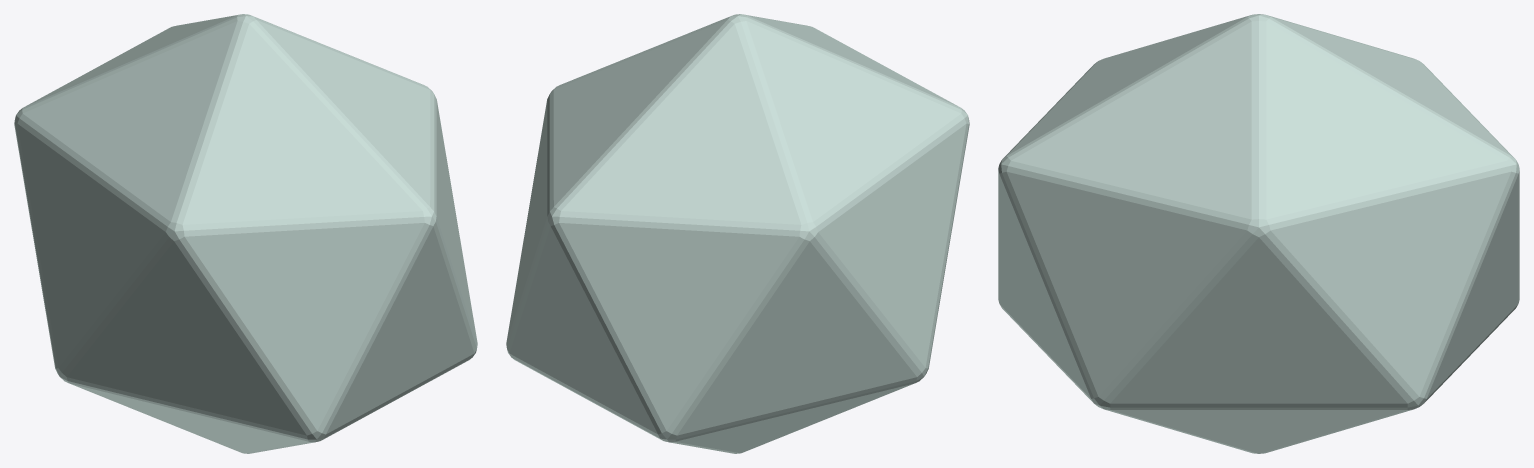
The model's file is core.glb.
3 renders of one model, left to right at view 1: azimuth 30°, elevation 25°; view 2: azimuth 150°, elevation 25°; view 3: azimuth 270°, elevation 25°, orthographic.
Parts seen in each view (by area): view 1: Core; view 2: Core; view 3: Core.
Part boxes in pixels (<box>): Core: <box>14,14,477,453</box>; Core: <box>506,14,969,453</box>; Core: <box>998,14,1519,453</box>.
Size of the model in its own units: 1.52 by 1.69 by 1.83.
